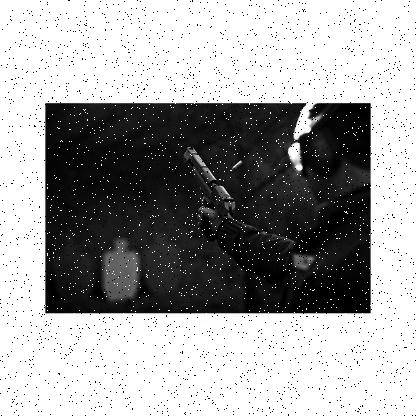gun: (180, 142, 234, 242)
